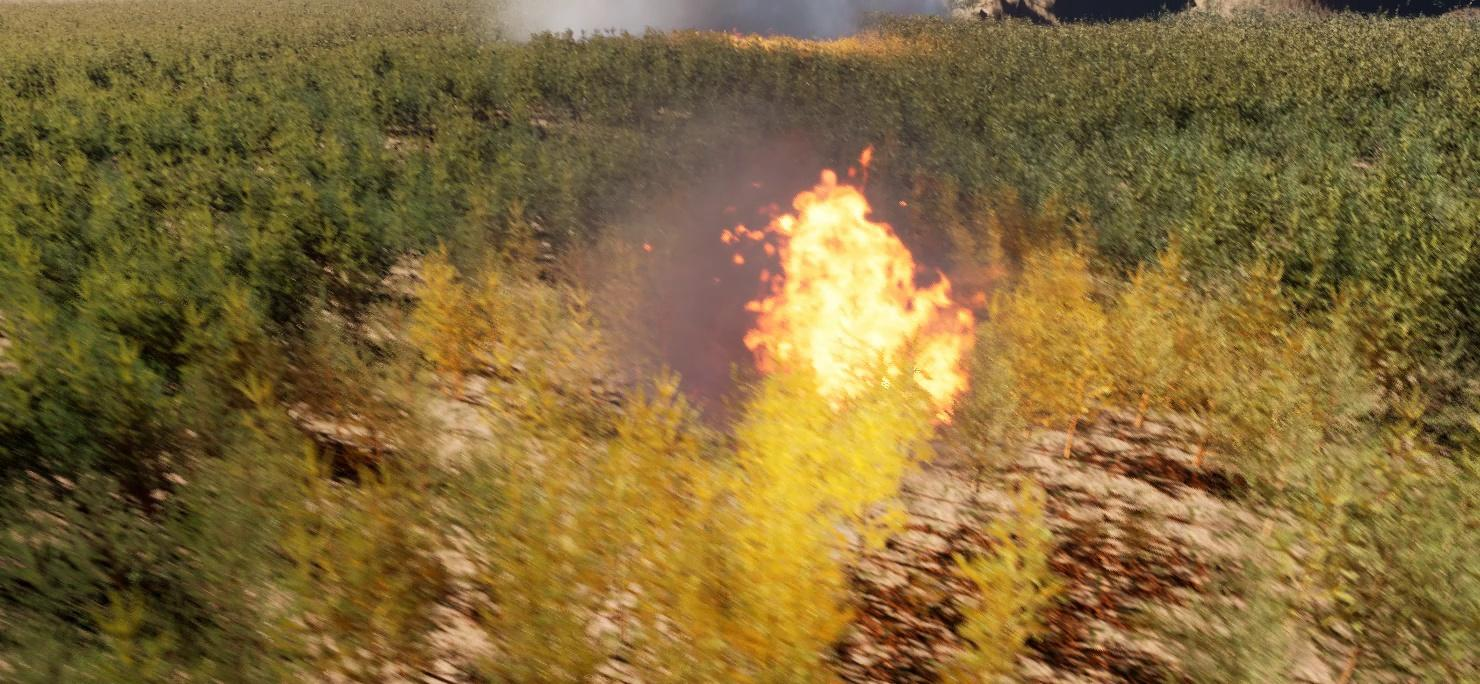fire: (706, 139, 975, 429)
smoke: (575, 113, 959, 435), (474, 0, 969, 47)
